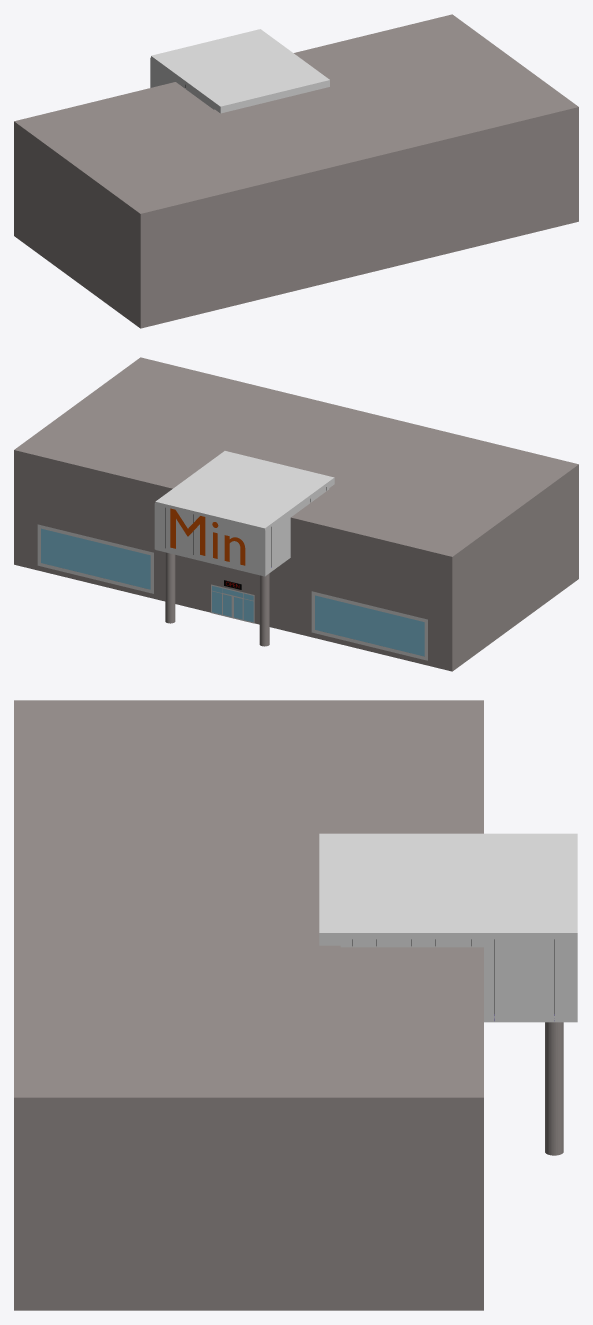
The model's file is grote winkel poging 1.fbx.
The picture shows the model from 3 angles, top to bottom: view 1: azimuth 30°, elevation 25°; view 2: azimuth 150°, elevation 25°; view 3: azimuth 270°, elevation 25°; orthographic projection. The views are drawn at different scales.
Parts seen in each view (by area): view 1: Cube, Cube.002, Plane.004, Cube.001; view 2: Cube, Cube.002, Plane.002, Plane.036, Plane, Plane.004, Text, Cylinder.001, Cylinder, Plane.033, Plane.038, Plane.032 (+1 smaller); view 3: Cube, Cube.002, Plane.003, Cylinder.
Boxes of the visible parts, x1,y1,x2,y2 form: Cube: [14, 14, 578, 328]; Cube.002: [151, 29, 329, 109]; Plane.004: [150, 58, 214, 109]; Cube.001: [214, 83, 329, 113]; Cube: [14, 357, 578, 671]; Cube.002: [155, 451, 334, 531]; Plane.002: [154, 503, 265, 575]; Plane.036: [315, 595, 424, 656]; Plane: [41, 528, 150, 589]; Plane.004: [265, 484, 329, 575]; Text: [170, 508, 245, 565]; Cylinder.001: [259, 573, 269, 646]; Cylinder: [165, 552, 175, 623]; Plane.033: [41, 563, 150, 592]; Plane.038: [315, 592, 424, 621]; Plane.032: [41, 525, 150, 555]; Cube: [14, 700, 483, 1310]; Cube.002: [319, 833, 577, 939]; Plane.003: [340, 936, 577, 1021]; Cylinder: [545, 1022, 563, 1155].
Size of the model in its own units: 8000 by 2130 by 4810.
